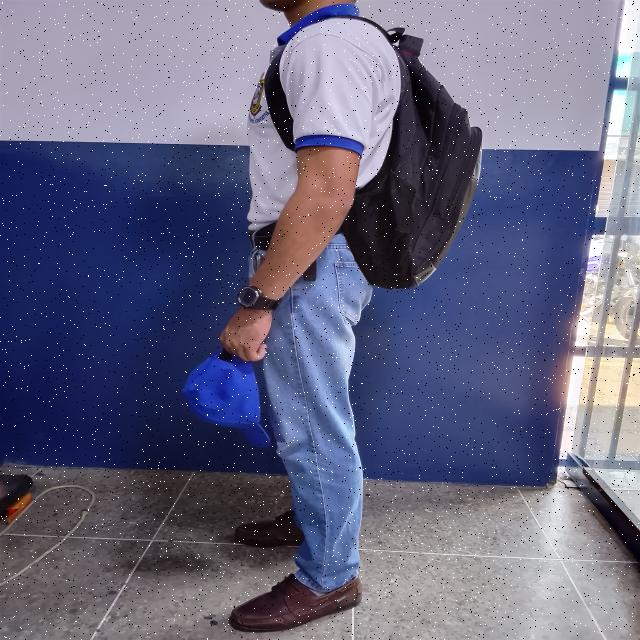uniforme_superior: (246, 3, 402, 231)
